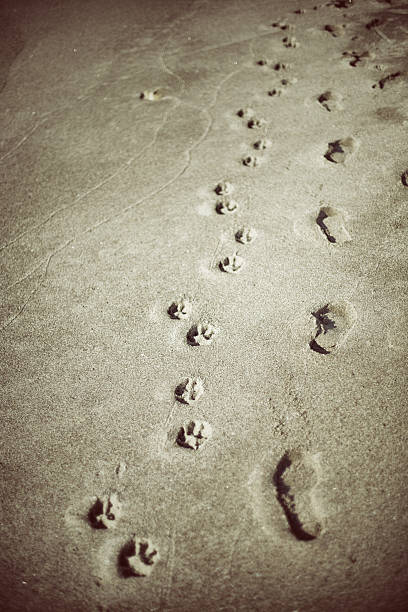animal_foot_print: (273, 450, 322, 540), (309, 302, 356, 354), (118, 535, 159, 576), (316, 206, 350, 244), (88, 492, 120, 528), (176, 420, 211, 449), (324, 136, 358, 162), (175, 377, 203, 404), (187, 322, 218, 345), (317, 90, 342, 111), (342, 50, 374, 66), (372, 71, 402, 88), (167, 298, 191, 319), (219, 253, 243, 272), (216, 197, 238, 214), (235, 227, 255, 243), (214, 181, 233, 195), (324, 24, 345, 36), (140, 89, 162, 100), (242, 154, 259, 167), (253, 138, 271, 150), (237, 107, 254, 119), (282, 36, 299, 48), (247, 117, 265, 128), (271, 22, 293, 30), (268, 87, 284, 96), (280, 77, 296, 86), (273, 62, 290, 70), (401, 169, 408, 187), (256, 58, 268, 65)
